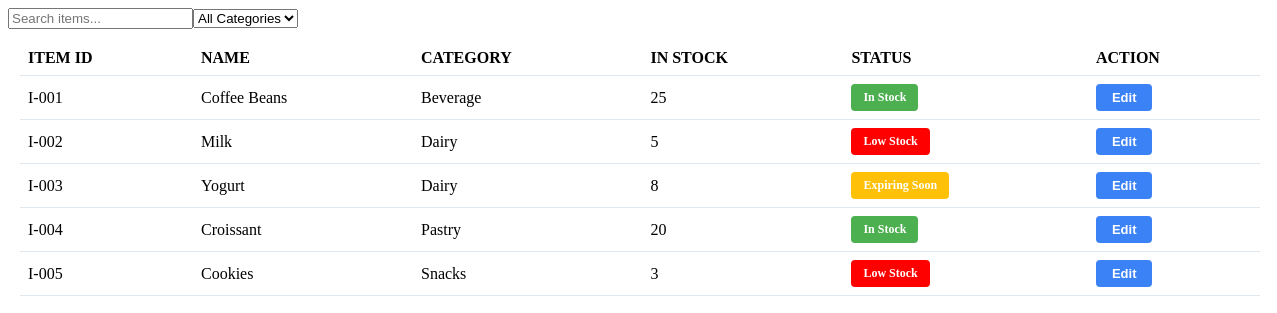
Test: InventoryTable Integration Tests › filters items by search term
Type "Coffee" into the field with test id "search-input". click: x=100, y=18
box: 8,8 -> 193,29
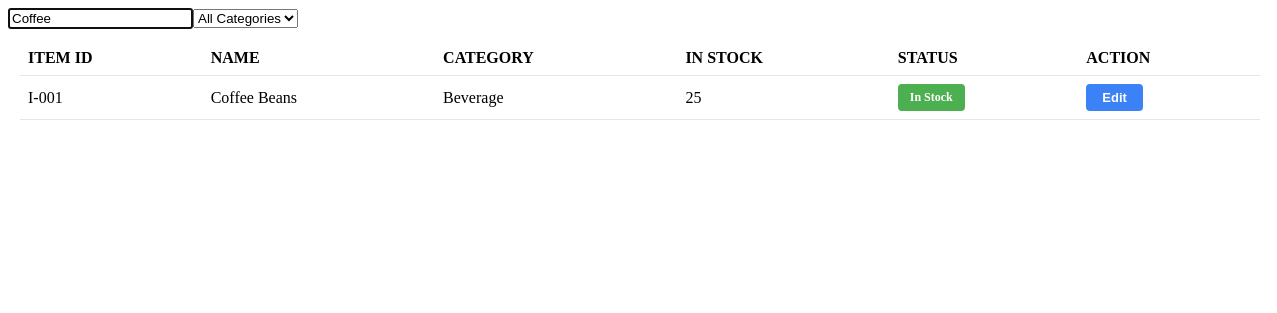
Expected: the text "Coffee Beans" is shown, 203,76 -> 435,120
Expected: the text "Milk" is gone
